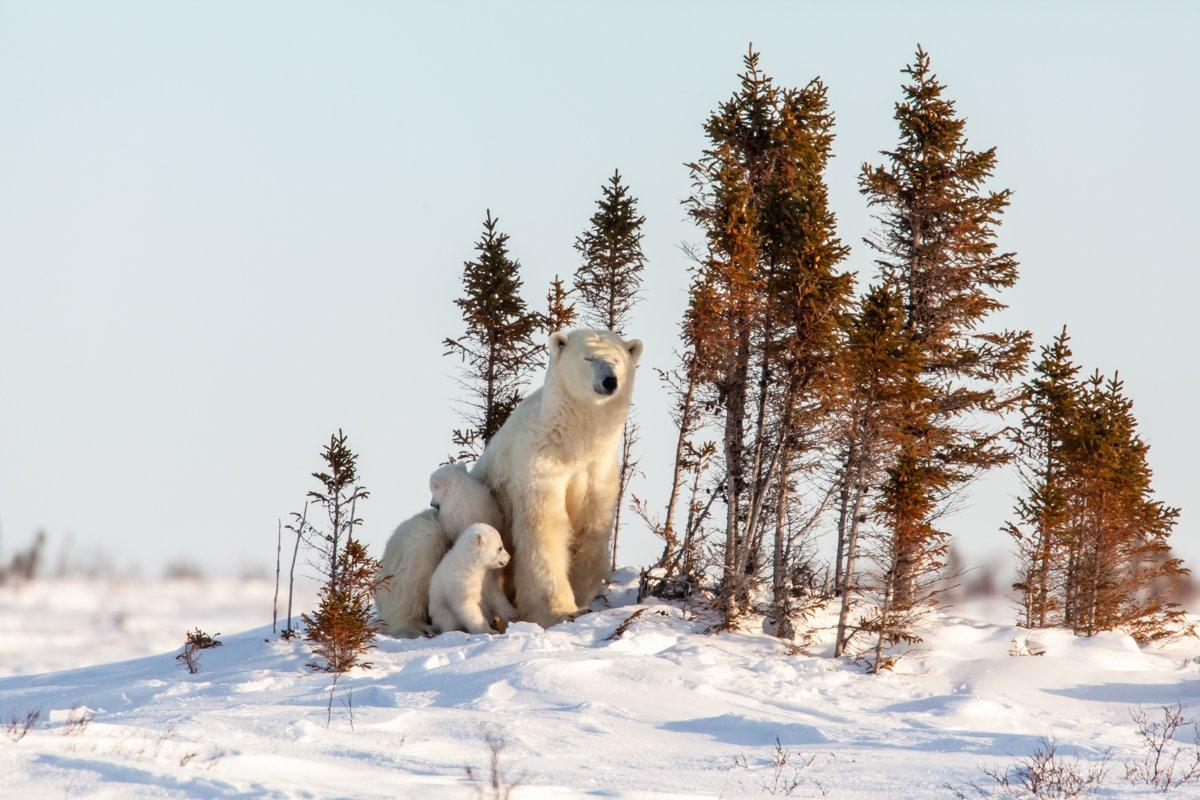bear: (372, 332, 644, 641), (424, 522, 514, 636), (427, 462, 510, 550)
